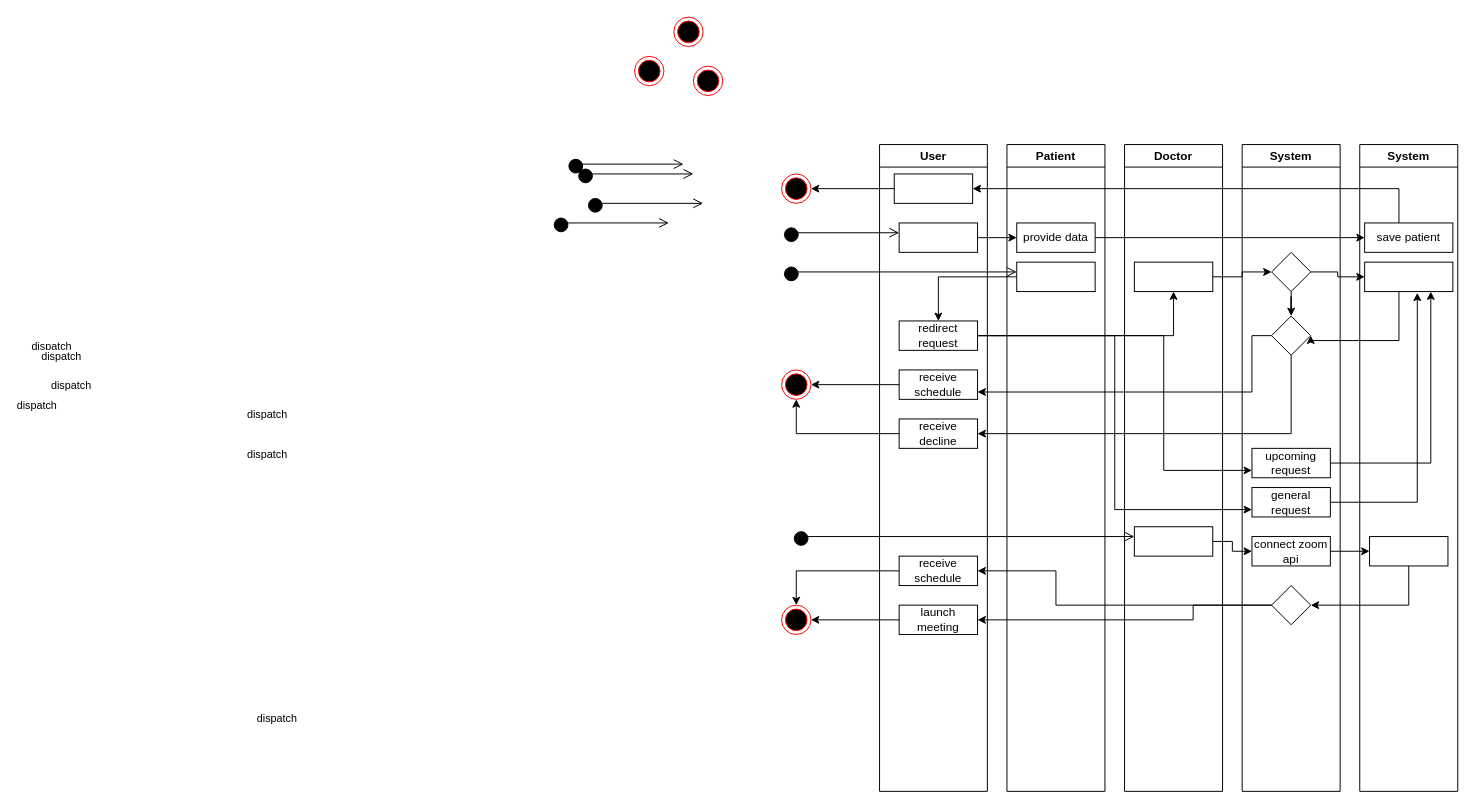
Some shapes in this 1475 by 809 pixel diagram are drawn without their labels. The shapes that lost their labels are listed below. From the top down, each one's centre as x and y in pixels, then its label:
the point at 933,188: provide patientID
the point at 938,237: create patient
the point at 1055,276: send consult request
the point at 1173,276: active request
the point at 1408,276: save schedule
the point at 1173,541: create meeting
the point at 1408,551: save meeting details
